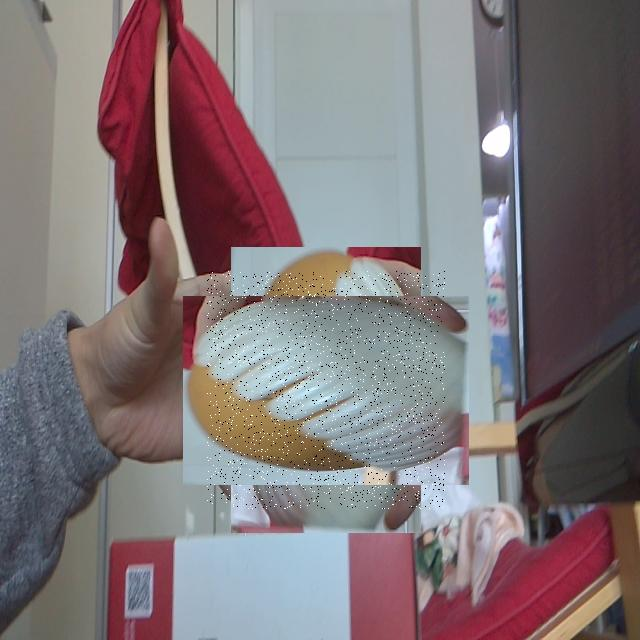pear: (207, 271, 445, 509)
